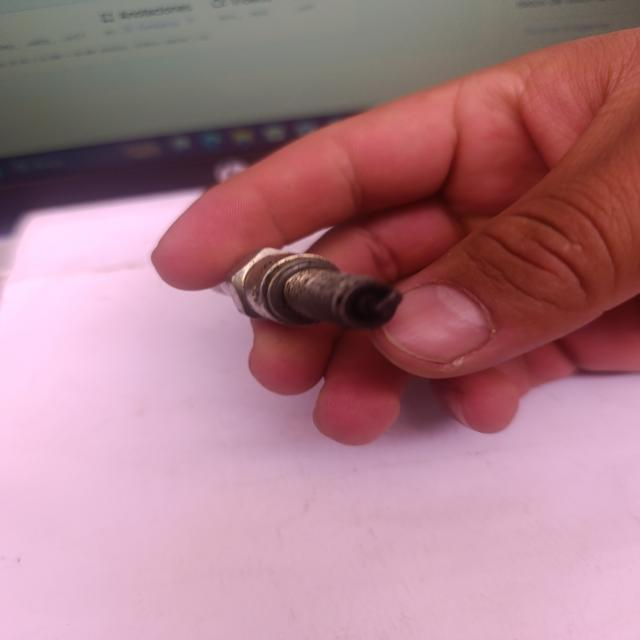bujia: (214, 248, 402, 330)
